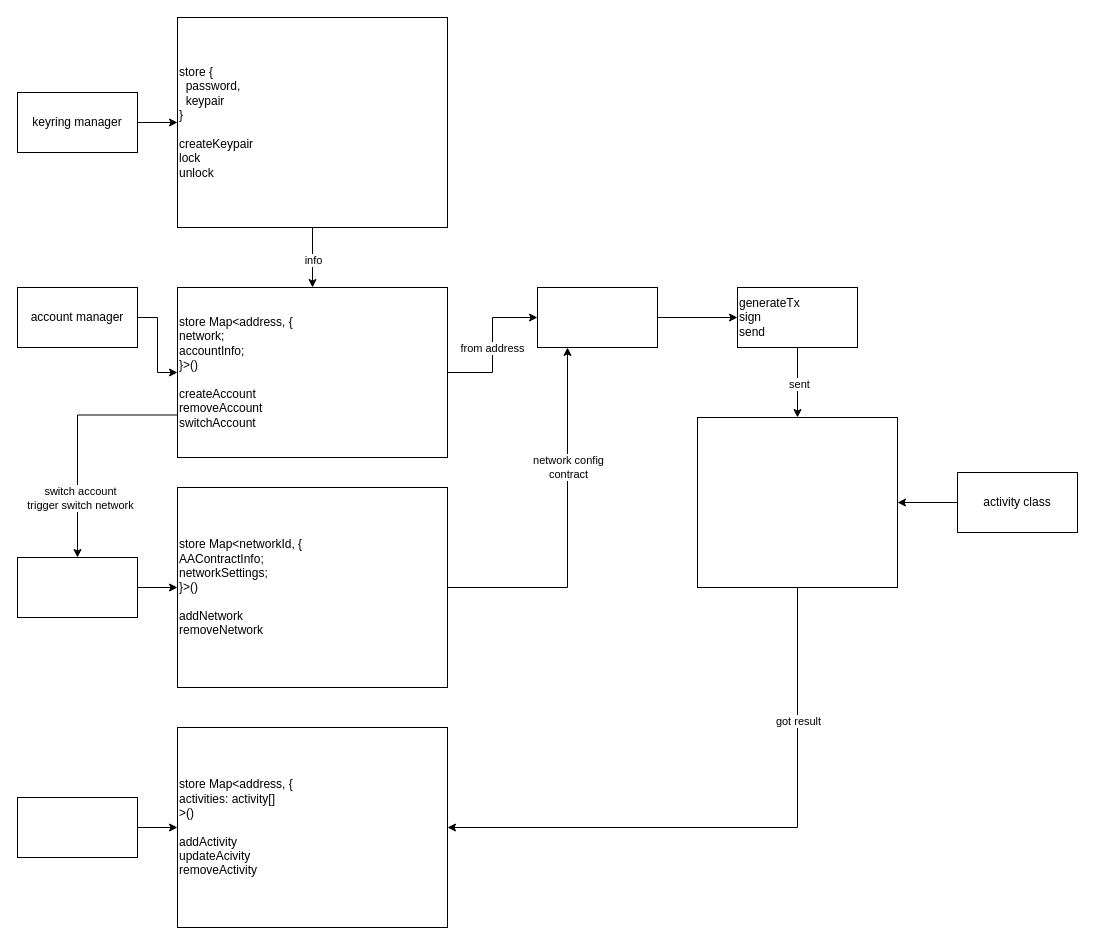
Image size: 1095x945. Some labels were removed from this diagram. Each missing label, with the box of its shape:
activities manager: (16, 796, 138, 858)
network manager: (16, 556, 138, 618)
subscribedTx<activity> (retry to pull the tx status) createActivity: (696, 416, 898, 588)
tx manager: (536, 286, 658, 348)
